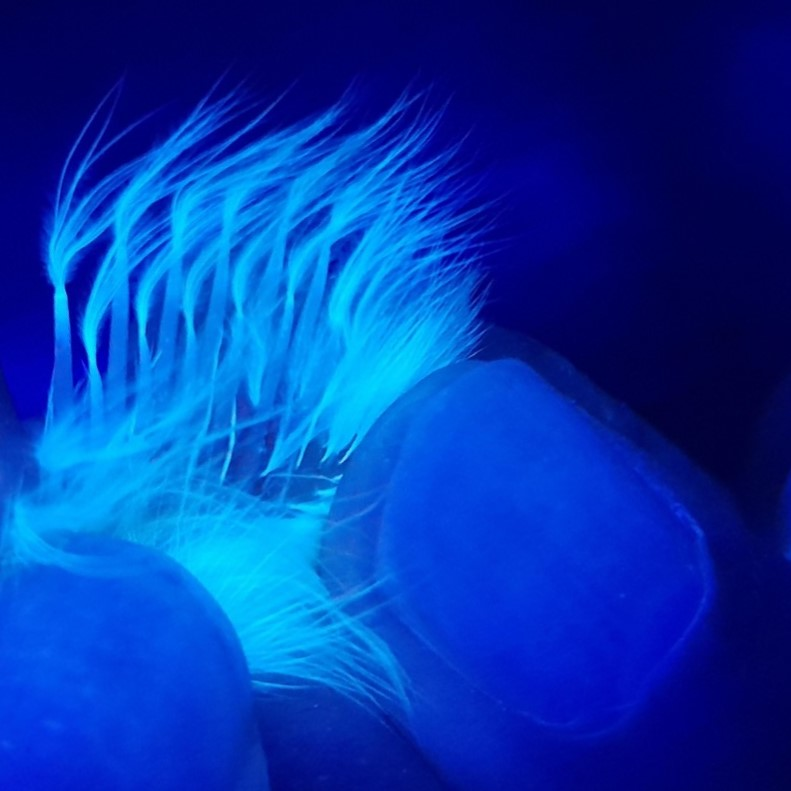female: (27, 165, 398, 525)
